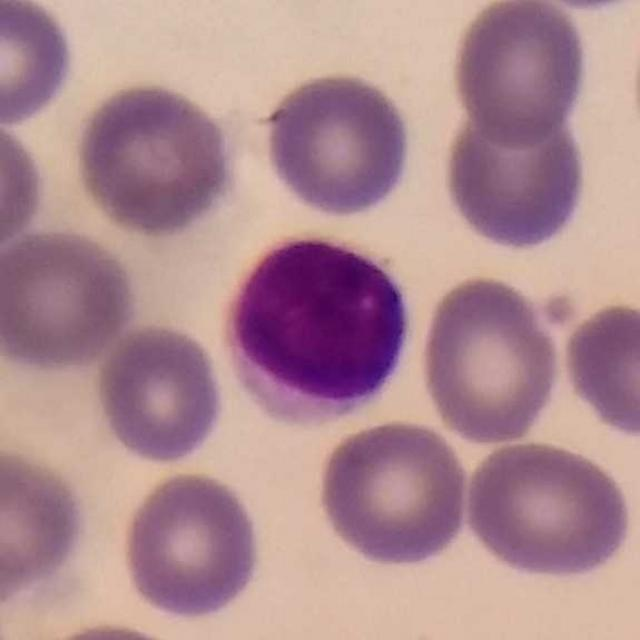Lymphocyte: (215, 225, 421, 428)
RBC: (70, 76, 242, 240), (414, 270, 565, 448), (461, 436, 635, 584), (258, 66, 418, 222), (313, 415, 472, 570), (439, 104, 592, 256), (116, 468, 265, 624), (445, 0, 592, 147), (0, 224, 141, 377), (90, 320, 229, 468), (0, 441, 93, 609), (557, 296, 640, 444), (0, 0, 79, 128), (0, 111, 50, 263), (27, 616, 206, 640), (515, 0, 635, 13)
